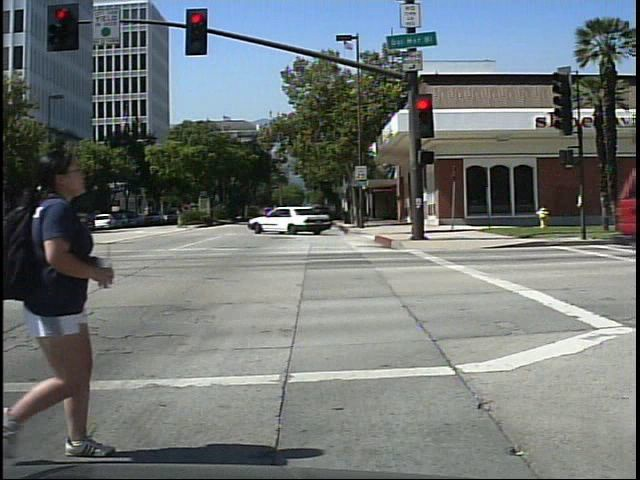person: (8, 136, 126, 466)
